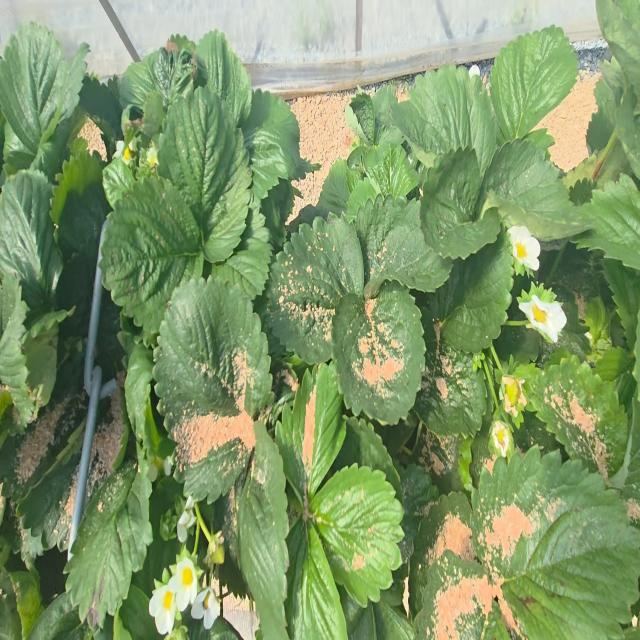Flowers: (517, 294, 567, 342), (508, 225, 541, 273), (169, 558, 197, 611), (149, 584, 176, 634), (191, 588, 220, 629), (488, 420, 514, 457), (177, 496, 196, 542)
Leaves: (478, 446, 640, 639), (153, 279, 272, 502), (100, 176, 202, 334), (159, 89, 251, 263), (265, 218, 364, 364), (65, 463, 152, 626), (311, 463, 404, 604), (333, 283, 425, 424), (392, 65, 498, 179), (275, 364, 346, 529), (237, 421, 289, 639), (525, 356, 626, 462), (429, 229, 513, 353), (489, 25, 578, 140), (355, 195, 452, 294), (414, 309, 487, 436), (0, 22, 69, 149), (414, 550, 512, 639), (421, 149, 500, 259), (0, 170, 62, 309), (410, 492, 476, 615), (285, 517, 347, 639), (242, 91, 312, 199), (484, 140, 572, 225), (18, 450, 81, 551), (578, 175, 640, 270), (212, 207, 272, 300), (197, 30, 252, 126), (120, 47, 195, 112), (85, 391, 125, 505), (364, 142, 419, 199), (349, 92, 375, 144), (519, 220, 579, 239)
Strawberries: (502, 376, 527, 417), (208, 545, 224, 564)
